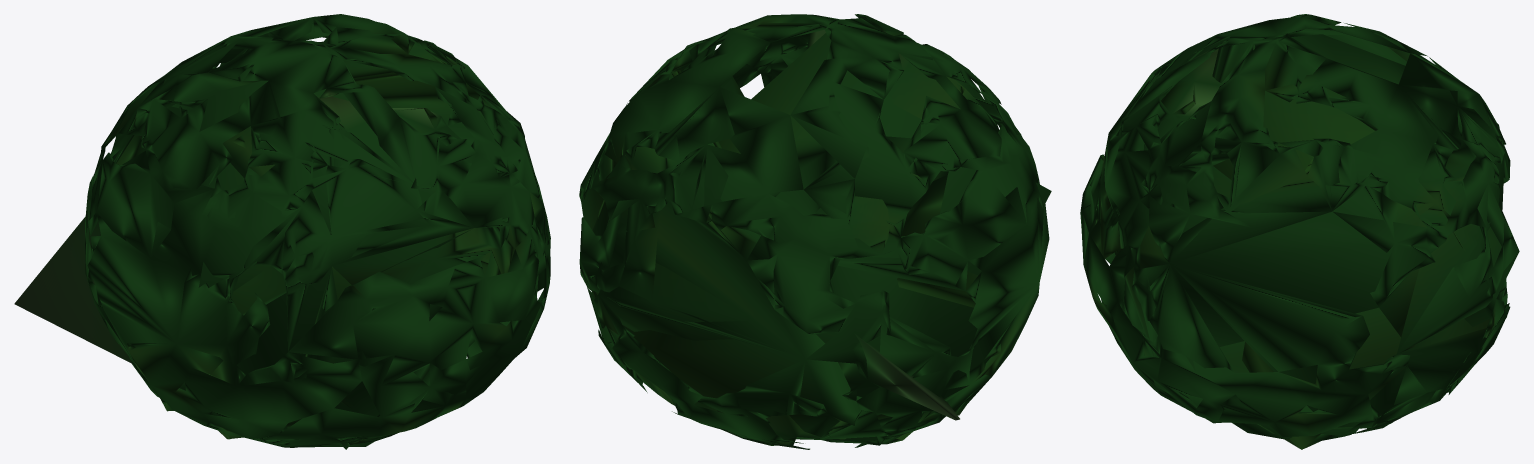
Rendered from gen3d-thorn-bush-lod0.glb.
3 views of the same model, side by side, from view 1: azimuth 30°, elevation 25°; view 2: azimuth 150°, elevation 25°; view 3: azimuth 270°, elevation 25° (orthographic). The views are drawn at different scales.
Visible parts, largest first — view 1: part_0; view 2: part_0; view 3: part_0.
Boxes of the visible parts, bbox=[...] form: part_0: bbox=[14, 14, 550, 449]; part_0: bbox=[579, 14, 1051, 449]; part_0: bbox=[1080, 14, 1519, 449].
Bounding box in the file's own units: 1.15 × 0.9942 × 1.05.
